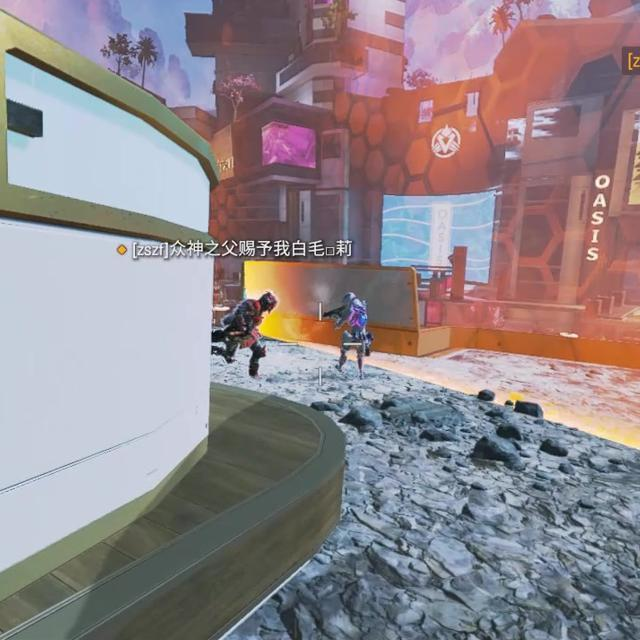avatar: (219, 287, 281, 381), (333, 290, 370, 379)
